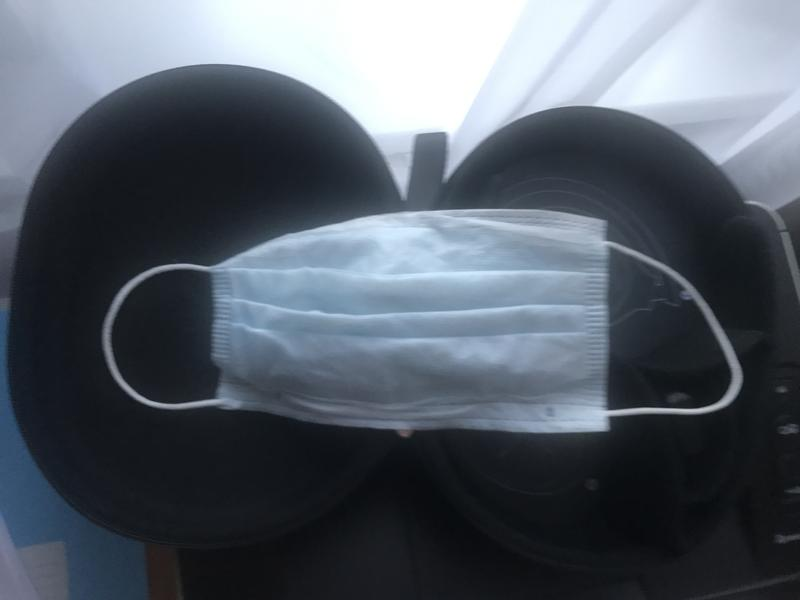medical_mask: (103, 209, 744, 433)
